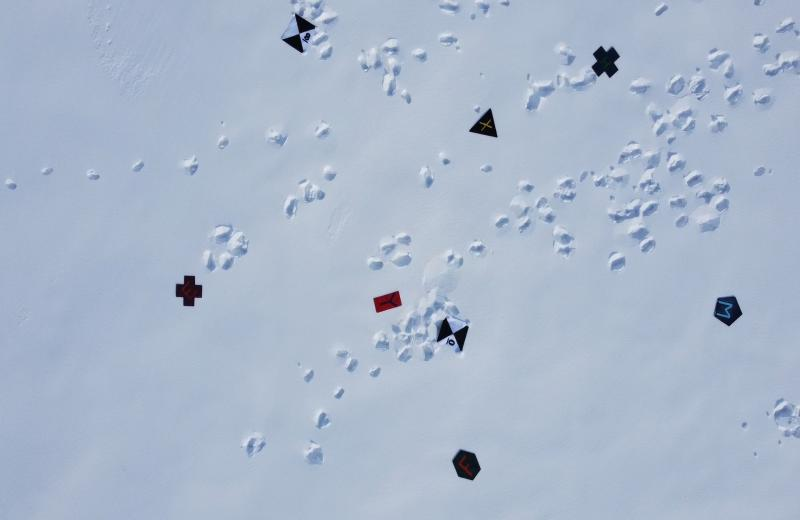Cross: (171, 269, 207, 316), (584, 42, 624, 84)
Hexagon: (448, 443, 486, 487)
Pentagon: (708, 292, 748, 339)
Rectangle: (370, 289, 407, 326)
Triangle: (466, 107, 508, 149)
